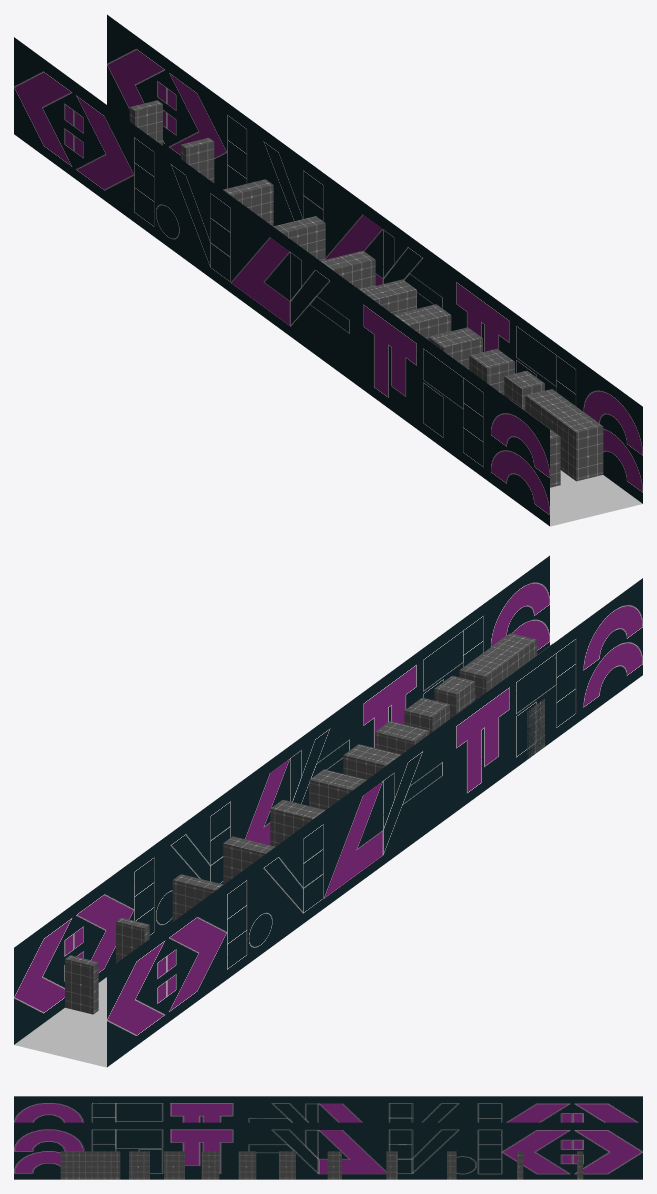
Rendered from Tile16.fbx.
The picture shows the model from 3 angles, top to bottom: view 1: azimuth 30°, elevation 25°; view 2: azimuth 150°, elevation 25°; view 3: azimuth 270°, elevation 25°; orthographic projection. The views are drawn at different scales.
Parts seen in each view (by area): view 1: WallRight, WallLeft, polySurface24, ground, polySurface9, polySurface5, polySurface25, polySurface1, polySurface19, polySurface11, polySurface15, polySurface23 (+2 smaller); view 2: WallRight, WallLeft, ground, polySurface24, polySurface31, polySurface9, polySurface11, polySurface5, polySurface1, polySurface15, polySurface19, polySurface25 (+3 smaller); view 3: WallLeft, WallRight, polySurface24, polySurface26, polySurface25, polySurface15, polySurface19, polySurface11, polySurface9, polySurface5, polySurface1, polySurface31 (+1 smaller).
Boxes of the visible parts, <box> form: WallRight: <box>14,37,549,526</box>; WallLeft: <box>107,14,642,503</box>; polySurface24: <box>525,389,603,481</box>; ground: <box>550,470,642,526</box>; polySurface9: <box>320,250,375,289</box>; polySurface5: <box>273,216,325,260</box>; polySurface25: <box>469,349,514,395</box>; polySurface1: <box>223,179,273,226</box>; polySurface19: <box>428,327,482,369</box>; polySurface11: <box>360,279,416,314</box>; polySurface15: <box>394,304,451,340</box>; polySurface23: <box>180,137,214,183</box>; WallRight: <box>107,578,642,1067</box>; WallLeft: <box>14,555,549,1044</box>; ground: <box>14,977,106,1067</box>; polySurface24: <box>459,633,537,700</box>; polySurface31: <box>65,955,98,1014</box>; polySurface9: <box>270,800,325,846</box>; polySurface11: <box>309,769,366,809</box>; polySurface5: <box>223,836,275,884</box>; polySurface1: <box>172,874,223,921</box>; polySurface15: <box>343,744,400,779</box>; polySurface19: <box>375,721,429,754</box>; polySurface25: <box>404,697,449,733</box>; WallLeft: <box>14,1122,642,1179</box>; WallRight: <box>14,1096,642,1122</box>; polySurface24: <box>60,1151,120,1179</box>; polySurface26: <box>129,1151,149,1179</box>; polySurface25: <box>164,1151,184,1179</box>; polySurface15: <box>238,1151,256,1179</box>; polySurface19: <box>201,1151,219,1179</box>; polySurface11: <box>279,1151,295,1179</box>; polySurface9: <box>327,1151,341,1179</box>; polySurface5: <box>386,1151,397,1179</box>; polySurface1: <box>447,1151,456,1179</box>; polySurface31: <box>577,1151,583,1179</box>.
Size of the model in its own units: 10 by 10 by 100.
